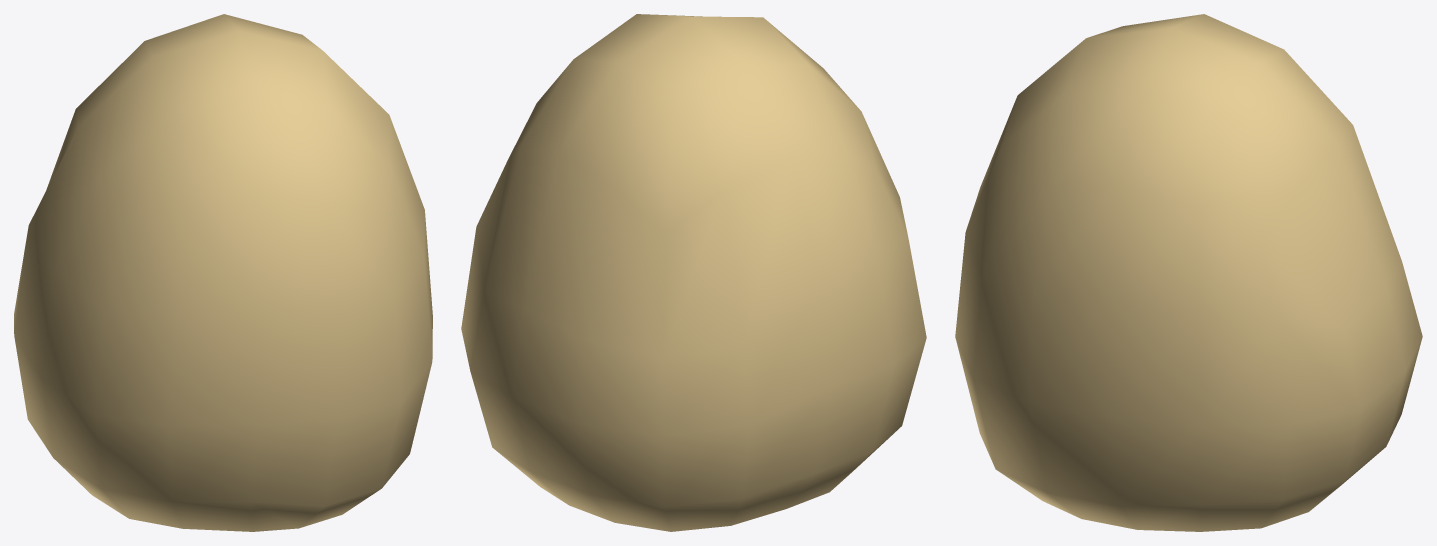
File: cake_knee.fbx
3 views of the same model, side by side, from view 1: azimuth 30°, elevation 25°; view 2: azimuth 150°, elevation 25°; view 3: azimuth 270°, elevation 25° (orthographic).
Parts seen in each view (by area): view 1: polySurface9; view 2: polySurface9; view 3: polySurface9.
Part boxes in pixels (left/top/right/bottom): polySurface9: left=14, top=14, right=432, bottom=531; polySurface9: left=461, top=14, right=926, bottom=531; polySurface9: left=955, top=14, right=1422, bottom=531.
Size of the model in its own units: 0.4685 by 0.5428 by 0.4923.
